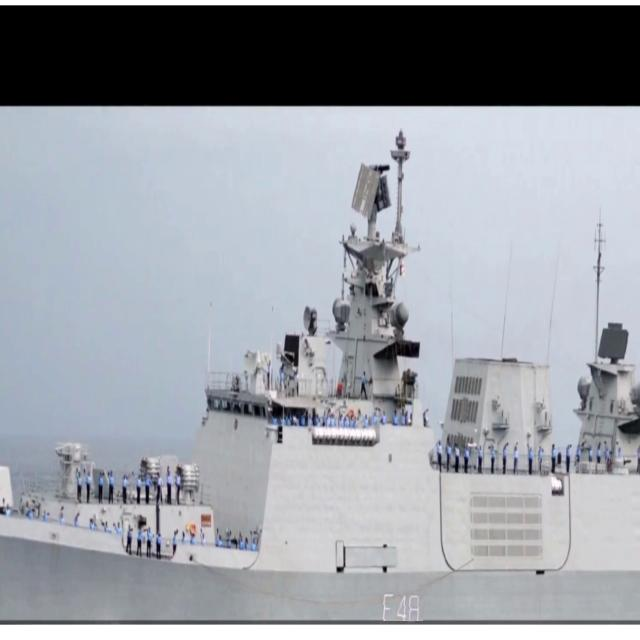OCR: (370, 584, 423, 621)
